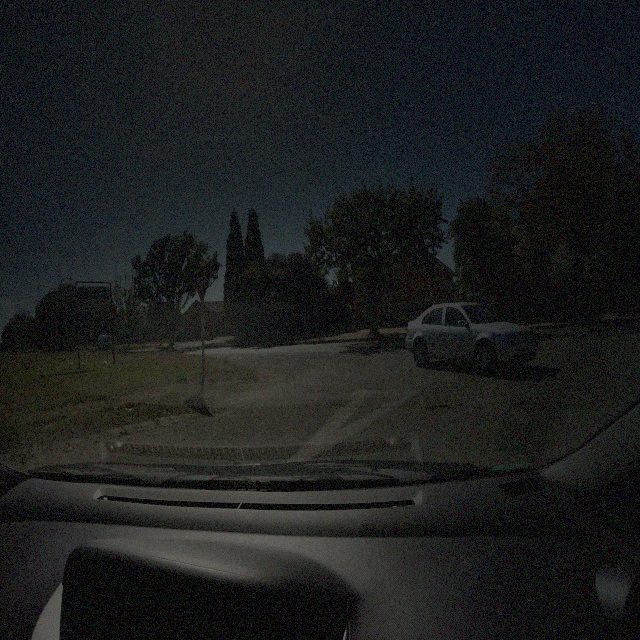pothole: (518, 397, 552, 416), (425, 402, 454, 412)
